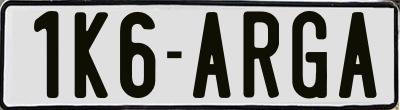1: (34, 8, 62, 98)
6: (118, 11, 153, 97)
A: (190, 12, 234, 104), (338, 12, 382, 98)
G: (290, 10, 330, 98)
K: (72, 12, 110, 102)
R: (240, 11, 282, 103)
